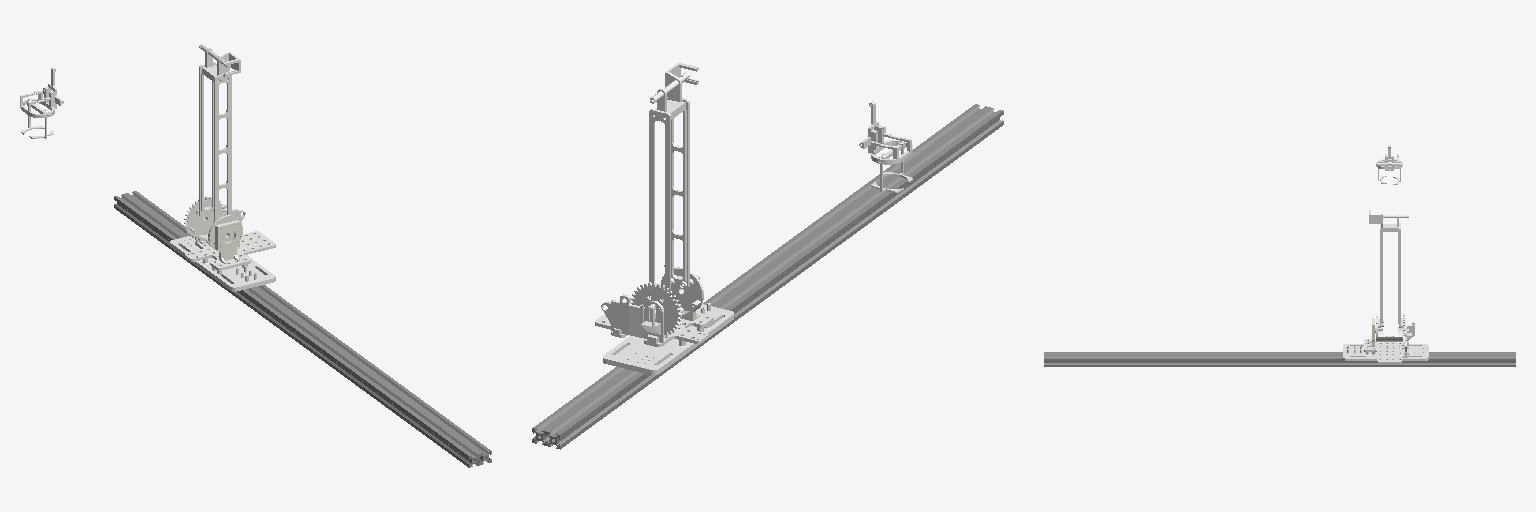
robot.urdf — arm:
<?xml version="1.0" ?>
<!-- =================================================================================== -->
<!-- |    This document was autogenerated by xacro from arm_description/urdf/arm.xacro | -->
<!-- |    EDITING THIS FILE BY HAND IS NOT RECOMMENDED                                 | -->
<!-- =================================================================================== -->
<robot name="arm">
  <material name="silver_default">
    <color rgba="0.700 0.700 0.700 1.000"/>
  </material>
  <material name="abs_white">
    <color rgba="0.9647058823529412 0.9647058823529412 0.9529411764705882 1.0"/>
  </material>
  <material name="steel_satin">
    <color rgba="0.6274509803921569 0.6274509803921569 0.6274509803921569 1.0"/>
  </material>
  <material name="acetal_resin_white">
    <color rgba="0.9725490196078431 0.9686274509803922 0.9294117647058824 1.0"/>
  </material>
  <transmission name="Slider 2_tran">
    <type>transmission_interface/SimpleTransmission</type>
    <joint name="Slider 2">
      <hardwareInterface>hardware_interface/EffortJointInterface</hardwareInterface>
    </joint>
    <actuator name="Slider 2_actr">
      <hardwareInterface>hardware_interface/EffortJointInterface</hardwareInterface>
      <mechanicalReduction>1</mechanicalReduction>
    </actuator>
  </transmission>
  <transmission name="Revolute 5_tran">
    <type>transmission_interface/SimpleTransmission</type>
    <joint name="Revolute 5">
      <hardwareInterface>hardware_interface/EffortJointInterface</hardwareInterface>
    </joint>
    <actuator name="Revolute 5_actr">
      <hardwareInterface>hardware_interface/EffortJointInterface</hardwareInterface>
      <mechanicalReduction>1</mechanicalReduction>
    </actuator>
  </transmission>
  <transmission name="Revolute 12_tran">
    <type>transmission_interface/SimpleTransmission</type>
    <joint name="Revolute 12">
      <hardwareInterface>hardware_interface/EffortJointInterface</hardwareInterface>
    </joint>
    <actuator name="Revolute 12_actr">
      <hardwareInterface>hardware_interface/EffortJointInterface</hardwareInterface>
      <mechanicalReduction>1</mechanicalReduction>
    </actuator>
  </transmission>
  <transmission name="Revolute 13_tran">
    <type>transmission_interface/SimpleTransmission</type>
    <joint name="Revolute 13">
      <hardwareInterface>hardware_interface/EffortJointInterface</hardwareInterface>
    </joint>
    <actuator name="Revolute 13_actr">
      <hardwareInterface>hardware_interface/EffortJointInterface</hardwareInterface>
      <mechanicalReduction>1</mechanicalReduction>
    </actuator>
  </transmission>
  <transmission name="Slider 18_tran">
    <type>transmission_interface/SimpleTransmission</type>
    <joint name="Slider 18">
      <hardwareInterface>hardware_interface/EffortJointInterface</hardwareInterface>
    </joint>
    <actuator name="Slider 18_actr">
      <hardwareInterface>hardware_interface/EffortJointInterface</hardwareInterface>
      <mechanicalReduction>1</mechanicalReduction>
    </actuator>
  </transmission>
  <transmission name="Slider 19_tran">
    <type>transmission_interface/SimpleTransmission</type>
    <joint name="Slider 19">
      <hardwareInterface>hardware_interface/EffortJointInterface</hardwareInterface>
    </joint>
    <actuator name="Slider 19_actr">
      <hardwareInterface>hardware_interface/EffortJointInterface</hardwareInterface>
      <mechanicalReduction>1</mechanicalReduction>
    </actuator>
  </transmission>
  <link name="base_link">
    <inertial>
      <origin rpy="0 0 0" xyz="-0.009999999999999943 -0.30000000000000016 -0.08999999999999994"/>
      <mass value="3.2806614531742855"/>
      <inertia ixx="0.330921" ixy="0.0" ixz="0.0" iyy="0.00057" iyz="0.0" izz="0.331249"/>
    </inertial>
    <visual>
      <origin rpy="0 0 0" xyz="0 0 0"/>
      <geometry>
        <mesh filename="../meshes/base_link.stl" scale="0.001 0.001 0.001"/>
      </geometry>
      <material name="steel_satin"/>
    </visual>
    <collision>
      <origin rpy="0 0 0" xyz="0 0 0"/>
      <geometry>
        <mesh filename="../meshes/base_link.stl" scale="0.001 0.001 0.001"/>
      </geometry>
    </collision>
  </link>
  <link name="glid_platta_1">
    <inertial>
      <origin rpy="0 0 0" xyz="-5.468439568776136e-05 -0.05383161524004917 0.0038176877551246158"/>
      <mass value="0.8546275738182918"/>
      <inertia ixx="0.002722" ixy="-6e-06" ixz="1e-06" iyy="0.000445" iyz="6e-06" izz="0.003156"/>
    </inertial>
    <visual>
      <origin rpy="0 0 0" xyz="0.01 0.0005 0.077"/>
      <geometry>
        <mesh filename="../meshes/glid_platta_1.stl" scale="0.001 0.001 0.001"/>
      </geometry>
      <material name="abs_white"/>
    </visual>
    <collision>
      <origin rpy="0 0 0" xyz="0.01 0.0005 0.077"/>
      <geometry>
        <mesh filename="../meshes/glid_platta_1.stl" scale="0.001 0.001 0.001"/>
      </geometry>
    </collision>
  </link>
  <link name="bas_1">
    <inertial>
      <origin rpy="0 0 0" xyz="0.04705931573620517 0.045268301136539645 0.0022661004887333247"/>
      <mass value="0.30456940392755205"/>
      <inertia ixx="0.000197" ixy="-5.5e-05" ixz="0.0" iyy="0.000386" iyz="-0.0" izz="0.000582"/>
    </inertial>
    <visual>
      <origin rpy="0 0 0" xyz="0.04 0.0955 0.061"/>
      <geometry>
        <mesh filename="../meshes/bas_1.stl" scale="0.001 0.001 0.001"/>
      </geometry>
      <material name="abs_white"/>
    </visual>
    <collision>
      <origin rpy="0 0 0" xyz="0.04 0.0955 0.061"/>
      <geometry>
        <mesh filename="../meshes/bas_1.stl" scale="0.001 0.001 0.001"/>
      </geometry>
    </collision>
  </link>
  <link name="gemensam_vagg_1">
    <inertial>
      <origin rpy="0 0 0" xyz="0.030946920895249638 0.0021147724207146537 0.021010163827367916"/>
      <mass value="0.14972234810656923"/>
      <inertia ixx="2.6e-05" ixy="4e-06" ixz="-2e-06" iyy="0.000104" iyz="-1e-06" izz="8.3e-05"/>
    </inertial>
    <visual>
      <origin rpy="0 0 0" xyz="0.025 0.006 0.0565"/>
      <geometry>
        <mesh filename="../meshes/gemensam_vagg_1.stl" scale="0.001 0.001 0.001"/>
      </geometry>
      <material name="abs_white"/>
    </visual>
    <collision>
      <origin rpy="0 0 0" xyz="0.025 0.006 0.0565"/>
      <geometry>
        <mesh filename="../meshes/gemensam_vagg_1.stl" scale="0.001 0.001 0.001"/>
      </geometry>
    </collision>
  </link>
  <link name="botten_snurr_1">
    <inertial>
      <origin rpy="0 0 0" xyz="0.0015732210889561407 -0.03123421175585632 -0.00431527689408236"/>
      <mass value="0.3353218247510541"/>
      <inertia ixx="0.000386" ixy="2e-06" ixz="6e-06" iyy="0.000177" iyz="-5e-06" izz="0.000373"/>
    </inertial>
    <visual>
      <origin rpy="0 0 0" xyz="0.0175 0.0083 0.016"/>
      <geometry>
        <mesh filename="../meshes/botten_snurr_1.stl" scale="0.001 0.001 0.001"/>
      </geometry>
      <material name="abs_white"/>
    </visual>
    <collision>
      <origin rpy="0 0 0" xyz="0.0175 0.0083 0.016"/>
      <geometry>
        <mesh filename="../meshes/botten_snurr_1.stl" scale="0.001 0.001 0.001"/>
      </geometry>
    </collision>
  </link>
  <link name="kortarm_kopia_Mirror__1">
    <inertial>
      <origin rpy="0 0 0" xyz="0.008999999999998776 -0.002527975348214296 0.12374230942748185"/>
      <mass value="0.14674833087457098"/>
      <inertia ixx="0.000901" ixy="0.0" ixz="-0.0" iyy="0.000919" iyz="-0.0" izz="1.9e-05"/>
    </inertial>
    <visual>
      <origin rpy="0 0 0" xyz="0.0265 0.0173 0.001"/>
      <geometry>
        <mesh filename="../meshes/kortarm_kopia_Mirror__1.stl" scale="0.001 0.001 0.001"/>
      </geometry>
      <material name="abs_white"/>
    </visual>
    <collision>
      <origin rpy="0 0 0" xyz="0.0265 0.0173 0.001"/>
      <geometry>
        <mesh filename="../meshes/kortarm_kopia_Mirror__1.stl" scale="0.001 0.001 0.001"/>
      </geometry>
    </collision>
  </link>
  <link name="kortarm_kopia_1">
    <inertial>
      <origin rpy="0 0 0" xyz="-0.008999999999983271 0.0025846658949611606 0.12043864331762873"/>
      <mass value="0.15923511176845098"/>
      <inertia ixx="0.000967" ixy="-0.0" ixz="0.0" iyy="0.000986" iyz="2e-06" izz="2e-05"/>
    </inertial>
    <visual>
      <origin rpy="0 0 0" xyz="0.0085 0.0673 0.001"/>
      <geometry>
        <mesh filename="../meshes/kortarm_kopia_1.stl" scale="0.001 0.001 0.001"/>
      </geometry>
      <material name="abs_white"/>
    </visual>
    <collision>
      <origin rpy="0 0 0" xyz="0.0085 0.0673 0.001"/>
      <geometry>
        <mesh filename="../meshes/kortarm_kopia_1.stl" scale="0.001 0.001 0.001"/>
      </geometry>
    </collision>
  </link>
  <link name="snurr_hallare_stepper_sida_1">
    <inertial>
      <origin rpy="0 0 0" xyz="-0.00752161763889087 -0.0010441466152069923 0.030069945529443327"/>
      <mass value="0.10064962572181504"/>
      <inertia ixx="3.3e-05" ixy="0.0" ixz="-0.0" iyy="4.6e-05" iyz="-0.0" izz="1.4e-05"/>
    </inertial>
    <visual>
      <origin rpy="0 0 0" xyz="0.01 0.08 0.0565"/>
      <geometry>
        <mesh filename="../meshes/snurr_hallare_stepper_sida_1.stl" scale="0.001 0.001 0.001"/>
      </geometry>
      <material name="acetal_resin_white"/>
    </visual>
    <collision>
      <origin rpy="0 0 0" xyz="0.01 0.08 0.0565"/>
      <geometry>
        <mesh filename="../meshes/snurr_hallare_stepper_sida_1.stl" scale="0.001 0.001 0.001"/>
      </geometry>
    </collision>
  </link>
  <link name="led_1">
    <inertial>
      <origin rpy="0 0 0" xyz="0.01030928189216322 0.011669647371074766 0.010617976474143143"/>
      <mass value="0.12568698050315202"/>
      <inertia ixx="7.4e-05" ixy="8e-06" ixz="-6e-06" iyy="3.2e-05" iyz="2.1e-05" izz="5.7e-05"/>
    </inertial>
    <visual>
      <origin rpy="0 0 0" xyz="0.025 0.0633 -0.244"/>
      <geometry>
        <mesh filename="../meshes/led_1.stl" scale="0.001 0.001 0.001"/>
      </geometry>
      <material name="abs_white"/>
    </visual>
    <collision>
      <origin rpy="0 0 0" xyz="0.025 0.0633 -0.244"/>
      <geometry>
        <mesh filename="../meshes/led_1.stl" scale="0.001 0.001 0.001"/>
      </geometry>
    </collision>
  </link>
  <link name="mount_1">
    <inertial>
      <origin rpy="0 0 0" xyz="-0.0015281452941265372 -0.027111778475479423 0.0047367407334450995"/>
      <mass value="0.03244923596791342"/>
      <inertia ixx="1.2e-05" ixy="0.0" ixz="-0.0" iyy="7e-06" iyz="-0.0" izz="6e-06"/>
    </inertial>
    <visual>
      <origin rpy="0 0 0" xyz="0.3074 0.0167 -0.273879"/>
      <geometry>
        <mesh filename="../meshes/mount_1.stl" scale="0.001 0.001 0.001"/>
      </geometry>
      <material name="abs_white"/>
    </visual>
    <collision>
      <origin rpy="0 0 0" xyz="0.3074 0.0167 -0.273879"/>
      <geometry>
        <mesh filename="../meshes/mount_1.stl" scale="0.001 0.001 0.001"/>
      </geometry>
    </collision>
  </link>
  <link name="led_axel_1">
    <inertial>
      <origin rpy="0 0 0" xyz="3.9681229292015674e-08 -0.017636071803263736 5.399675367945278e-08"/>
      <mass value="0.03211404074503917"/>
      <inertia ixx="1.9e-05" ixy="0.0" ixz="-0.0" iyy="0.0" iyz="-0.0" izz="1.9e-05"/>
    </inertial>
    <visual>
      <origin rpy="0 0 0" xyz="0.0175 0.0257 -0.274"/>
      <geometry>
        <mesh filename="../meshes/led_axel_1.stl" scale="0.001 0.001 0.001"/>
      </geometry>
      <material name="abs_white"/>
    </visual>
    <collision>
      <origin rpy="0 0 0" xyz="0.0175 0.0257 -0.274"/>
      <geometry>
        <mesh filename="../meshes/led_axel_1.stl" scale="0.001 0.001 0.001"/>
      </geometry>
    </collision>
  </link>
  <link name="lang_arm_1">
    <inertial>
      <origin rpy="0 0 0" xyz="-0.11940862738379322 -0.0002318340638047412 -0.003829064875622401"/>
      <mass value="0.16976147982888834"/>
      <inertia ixx="1.5e-05" ixy="-1.3e-05" ixz="-0.0" iyy="0.001196" iyz="-0.0" izz="0.001184"/>
    </inertial>
    <visual>
      <origin rpy="0 0 0" xyz="0.019 0.0127 -0.277708"/>
      <geometry>
        <mesh filename="../meshes/lang_arm_1.stl" scale="0.001 0.001 0.001"/>
      </geometry>
      <material name="abs_white"/>
    </visual>
    <collision>
      <origin rpy="0 0 0" xyz="0.019 0.0127 -0.277708"/>
      <geometry>
        <mesh filename="../meshes/lang_arm_1.stl" scale="0.001 0.001 0.001"/>
      </geometry>
    </collision>
  </link>
  <link name="lang_arm_Mirror__1">
    <inertial>
      <origin rpy="0 0 0" xyz="-0.11940862738379333 0.00023183404890350645 -0.003829064875622401"/>
      <mass value="0.1697614798288884"/>
      <inertia ixx="1.5e-05" ixy="1.3e-05" ixz="-0.0" iyy="0.001196" iyz="0.0" izz="0.001184"/>
    </inertial>
    <visual>
      <origin rpy="0 0 0" xyz="0.019 0.0727 -0.277708"/>
      <geometry>
        <mesh filename="../meshes/lang_arm_Mirror__1.stl" scale="0.001 0.001 0.001"/>
      </geometry>
      <material name="abs_white"/>
    </visual>
    <collision>
      <origin rpy="0 0 0" xyz="0.019 0.0727 -0.277708"/>
      <geometry>
        <mesh filename="../meshes/lang_arm_Mirror__1.stl" scale="0.001 0.001 0.001"/>
      </geometry>
    </collision>
  </link>
  <link name="ram_1">
    <inertial>
      <origin rpy="0 0 0" xyz="-0.019202424746526392 0.009473523246560166 -0.01755497164191755"/>
      <mass value="0.05700474756317414"/>
      <inertia ixx="1.9e-05" ixy="0.0" ixz="-2e-06" iyy="1.9e-05" iyz="-0.0" izz="3.1e-05"/>
    </inertial>
    <visual>
      <origin rpy="0 0 0" xyz="0.3114 0.0517 -0.283879"/>
      <geometry>
        <mesh filename="../meshes/ram_1.stl" scale="0.001 0.001 0.001"/>
      </geometry>
      <material name="abs_white"/>
    </visual>
    <collision>
      <origin rpy="0 0 0" xyz="0.3114 0.0517 -0.283879"/>
      <geometry>
        <mesh filename="../meshes/ram_1.stl" scale="0.001 0.001 0.001"/>
      </geometry>
    </collision>
  </link>
  <link name="Component18_1">
    <inertial>
      <origin rpy="0 0 0" xyz="-0.3064939998665962 -0.04140577938889977 0.25437893512310367"/>
      <mass value="0.009717848592679035"/>
      <inertia ixx="2e-06" ixy="-0.0" ixz="0.0" iyy="0.0" iyz="-0.0" izz="2e-06"/>
    </inertial>
    <visual>
      <origin rpy="0 0 0" xyz="0.029306 0.0026 -0.005"/>
      <geometry>
        <mesh filename="../meshes/Component18_1.stl" scale="0.001 0.001 0.001"/>
      </geometry>
      <material name="abs_white"/>
    </visual>
    <collision>
      <origin rpy="0 0 0" xyz="0.029306 0.0026 -0.005"/>
      <geometry>
        <mesh filename="../meshes/Component18_1.stl" scale="0.001 0.001 0.001"/>
      </geometry>
    </collision>
  </link>
  <link name="hake_1">
    <inertial>
      <origin rpy="0 0 0" xyz="-0.0026499780323618882 -0.007012922584167825 -0.026625758918819686"/>
      <mass value="0.008717252045640082"/>
      <inertia ixx="3e-06" ixy="-0.0" ixz="-0.0" iyy="4e-06" iyz="-0.0" izz="1e-06"/>
    </inertial>
    <visual>
      <origin rpy="0 0 0" xyz="0.3333 0.015006 -0.261879"/>
      <geometry>
        <mesh filename="../meshes/hake_1.stl" scale="0.001 0.001 0.001"/>
      </geometry>
      <material name="abs_white"/>
    </visual>
    <collision>
      <origin rpy="0 0 0" xyz="0.3333 0.015006 -0.261879"/>
      <geometry>
        <mesh filename="../meshes/hake_1.stl" scale="0.001 0.001 0.001"/>
      </geometry>
    </collision>
  </link>
  <link name="hake2_1">
    <inertial>
      <origin rpy="0 0 0" xyz="0.002649979198926289 0.0076133663675697905 -0.024953181253041634"/>
      <mass value="0.008505309594827988"/>
      <inertia ixx="3e-06" ixy="-0.0" ixz="0.0" iyy="3e-06" iyz="0.0" izz="1e-06"/>
    </inertial>
    <visual>
      <origin rpy="0 0 0" xyz="0.3383 0.073006 -0.261879"/>
      <geometry>
        <mesh filename="../meshes/hake2_1.stl" scale="0.001 0.001 0.001"/>
      </geometry>
      <material name="abs_white"/>
    </visual>
    <collision>
      <origin rpy="0 0 0" xyz="0.3383 0.073006 -0.261879"/>
      <geometry>
        <mesh filename="../meshes/hake2_1.stl" scale="0.001 0.001 0.001"/>
      </geometry>
    </collision>
  </link>
  <joint name="Slider 2" type="prismatic">
    <origin rpy="0 0 0" xyz="-0.01 -0.0005 -0.077"/>
    <parent link="base_link"/>
    <child link="glid_platta_1"/>
    <axis xyz="0.0 1.0 0.0"/>
    <limit effort="100" lower="0.0" upper="0.0" velocity="100"/>
  </joint>
  <joint name="Rigid 3" type="fixed">
    <origin rpy="0 0 0" xyz="-0.03 -0.095 0.016"/>
    <parent link="glid_platta_1"/>
    <child link="bas_1"/>
  </joint>
  <joint name="Rigid 4" type="fixed">
    <origin rpy="0 0 0" xyz="0.015 0.0895 0.0045"/>
    <parent link="bas_1"/>
    <child link="gemensam_vagg_1"/>
  </joint>
  <joint name="Revolute 5" type="continuous">
    <origin rpy="0 0 0" xyz="0.0075 -0.0023 0.0405"/>
    <parent link="gemensam_vagg_1"/>
    <child link="botten_snurr_1"/>
    <axis xyz="0.0 1.0 0.0"/>
  </joint>
  <joint name="Rigid 6" type="fixed">
    <origin rpy="0 0 0" xyz="-0.009 -0.009 0.015"/>
    <parent link="botten_snurr_1"/>
    <child link="kortarm_kopia_Mirror__1"/>
  </joint>
  <joint name="Rigid 7" type="fixed">
    <origin rpy="0 0 0" xyz="0.009 -0.059 0.015"/>
    <parent link="botten_snurr_1"/>
    <child link="kortarm_kopia_1"/>
  </joint>
  <joint name="Rigid 8" type="fixed">
    <origin rpy="0 0 0" xyz="0.03 0.0155 0.0045"/>
    <parent link="bas_1"/>
    <child link="snurr_hallare_stepper_sida_1"/>
  </joint>
  <joint name="Rigid 9" type="fixed">
    <origin rpy="0 0 0" xyz="-0.0165 0.004 0.245"/>
    <parent link="kortarm_kopia_1"/>
    <child link="led_1"/>
  </joint>
  <joint name="Revolute 12" type="continuous">
    <origin rpy="0 0 0" xyz="-0.2884 -0.004 -0.003829"/>
    <parent link="lang_arm_1"/>
    <child link="mount_1"/>
    <axis xyz="-0.0 -1.0 0.0"/>
  </joint>
  <joint name="Revolute 13" type="continuous">
    <origin rpy="0 0 0" xyz="0.0075 0.0376 0.03"/>
    <parent link="led_1"/>
    <child link="led_axel_1"/>
    <axis xyz="0.0 1.0 0.0"/>
  </joint>
  <joint name="Rigid 14" type="fixed">
    <origin rpy="0 0 0" xyz="-0.0015 0.013 0.003708"/>
    <parent link="led_axel_1"/>
    <child link="lang_arm_1"/>
  </joint>
  <joint name="Rigid 15" type="fixed">
    <origin rpy="0 0 0" xyz="-0.0015 -0.047 0.003708"/>
    <parent link="led_axel_1"/>
    <child link="lang_arm_Mirror__1"/>
  </joint>
  <joint name="Rigid 16" type="fixed">
    <origin rpy="0 0 0" xyz="-0.004 -0.035 0.01"/>
    <parent link="mount_1"/>
    <child link="ram_1"/>
  </joint>
  <joint name="Rigid 17" type="fixed">
    <origin rpy="0 0 0" xyz="0.282094 0.0491 -0.278879"/>
    <parent link="ram_1"/>
    <child link="Component18_1"/>
  </joint>
  <joint name="Slider 18" type="prismatic">
    <origin rpy="0 0 0" xyz="-0.303994 -0.012406 0.256879"/>
    <parent link="Component18_1"/>
    <child link="hake_1"/>
    <axis xyz="-0.0 1.0 0.0"/>
    <limit effort="100" lower="0.0" upper="0.0" velocity="100"/>
  </joint>
  <joint name="Slider 19" type="prismatic">
    <origin rpy="0 0 0" xyz="-0.308994 -0.070406 0.256879"/>
    <parent link="Component18_1"/>
    <child link="hake2_1"/>
    <axis xyz="0.0 -1.0 -0.0"/>
    <limit effort="100" lower="0.0" upper="0.0" velocity="100"/>
  </joint>
</robot>

--- What the picture shows (computed from the rendered views, not written in the file) ---
Views: 3 orthographic renders of the robot side by side, from view 1: azimuth 30°, elevation 25°; view 2: azimuth 150°, elevation 25°; view 3: azimuth 270°, elevation 25°.
Model arm with 17 links and 16 joints (3 continuous, 3 prismatic, 10 fixed), rooted at base_link, posed all joints at 0.
Visible links, largest first — view 1: base_link, glid_platta_1, kortarm_kopia_1, bas_1, botten_snurr_1, kortarm_kopia_Mirror__1, snurr_hallare_stepper_sida_1, led_1, ram_1; view 2: base_link, glid_platta_1, botten_snurr_1, kortarm_kopia_Mirror__1, kortarm_kopia_1, gemensam_vagg_1, bas_1, led_1, ram_1; view 3: base_link, glid_platta_1, bas_1.
Boxes of the visible links, x1,y1,x2,y2 form: base_link: (114,191,491,467); glid_platta_1: (170,236,275,291); kortarm_kopia_1: (213,74,231,222); bas_1: (185,231,275,270); botten_snurr_1: (184,197,242,251); kortarm_kopia_Mirror__1: (199,62,216,216); snurr_hallare_stepper_sida_1: (215,220,239,263); led_1: (202,48,240,81); ram_1: (20,87,54,117); base_link: (532,104,1003,449); glid_platta_1: (603,303,733,374); botten_snurr_1: (631,265,703,335); kortarm_kopia_Mirror__1: (649,109,670,291); kortarm_kopia_1: (667,98,689,288); gemensam_vagg_1: (601,294,663,343); bas_1: (595,312,713,346); led_1: (656,63,698,119); ram_1: (871,125,912,164); base_link: (1044,352,1515,366); glid_platta_1: (1343,344,1428,360); bas_1: (1364,336,1408,362).
Bounding box of the posed robot: 0.4324 × 1.1 × 0.4219 m (x, y, z).
Meshes: 17 distinct files referenced, 15 mesh visuals loaded (15 binary STL); not drawn: 2 (reference not matched to a file when rendering).
